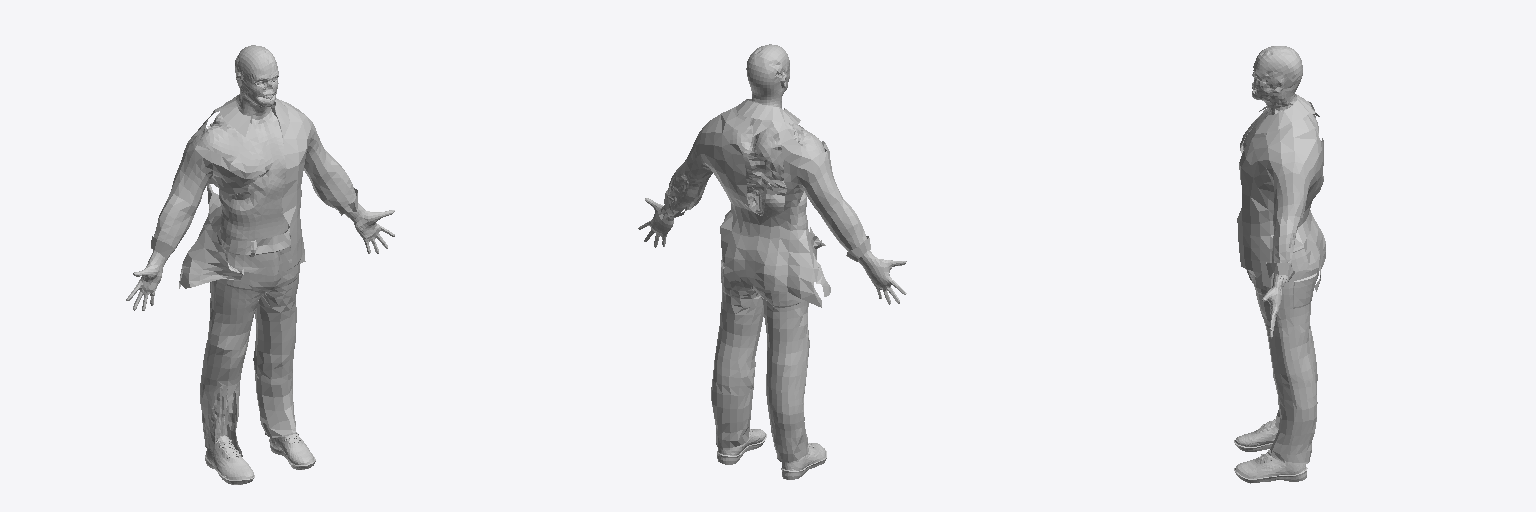
File: zombie.obj
3 views of the same model, side by side, from view 1: azimuth 30°, elevation 25°; view 2: azimuth 150°, elevation 25°; view 3: azimuth 270°, elevation 25° (orthographic).
Parts seen in each view (by area): view 1: zombi; view 2: zombi; view 3: zombi.
Boxes of the visible parts, x1=… form: zombi: x1=126, y1=45, x2=394, y2=484; zombi: x1=638, y1=44, x2=906, y2=479; zombi: x1=1234, y1=46, x2=1325, y2=483.
Size of the model in its own units: 38.73 by 57.47 by 11.52.